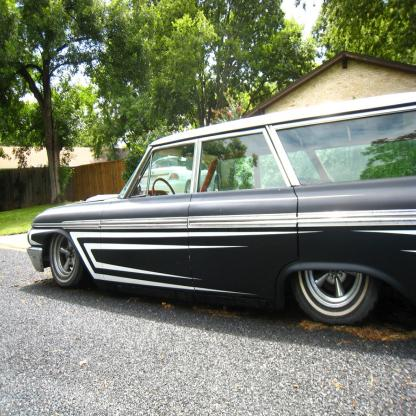Car: (28, 93, 416, 325)
